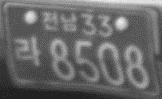0: (96, 41, 123, 85)
3: (79, 12, 96, 36), (96, 14, 113, 38)
5: (74, 39, 101, 84)
8: (123, 44, 150, 90), (48, 38, 74, 81)
라: (13, 36, 41, 67)
전남_O: (41, 11, 78, 33)
